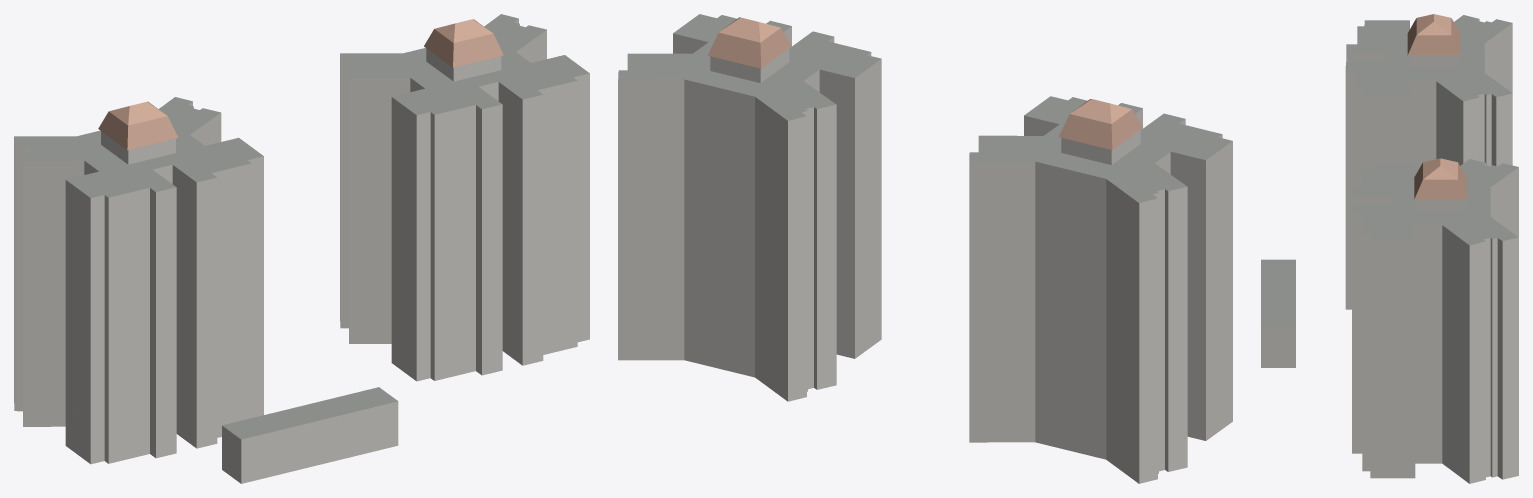
Rendered from gridID_21.dae.
3 renders of one model, left to right at view 1: azimuth 30°, elevation 25°; view 2: azimuth 150°, elevation 25°; view 3: azimuth 270°, elevation 25°, orthographic. The views are drawn at different scales.
Parts seen in each view (by area): view 1: model_gridID_21_w399692310, model_gridID_21_w399692308, model_gridID_21_w399692320_003; view 2: model_gridID_21_w399692308, model_gridID_21_w399692310; view 3: model_gridID_21_w399692310, model_gridID_21_w399692308, model_gridID_21_w399692320_003.
Boxes of the visible parts, <box> form: model_gridID_21_w399692310: <box>340,14,589,381</box>; model_gridID_21_w399692308: <box>14,97,263,464</box>; model_gridID_21_w399692320_003: <box>222,387,398,483</box>; model_gridID_21_w399692308: <box>969,96,1232,483</box>; model_gridID_21_w399692310: <box>618,14,881,401</box>; model_gridID_21_w399692310: <box>1352,158,1518,483</box>; model_gridID_21_w399692308: <box>1345,14,1512,309</box>; model_gridID_21_w399692320_003: <box>1261,259,1295,367</box>.
Bounding box in the file's own units: 93.32 × 44.08 × 52.6.
